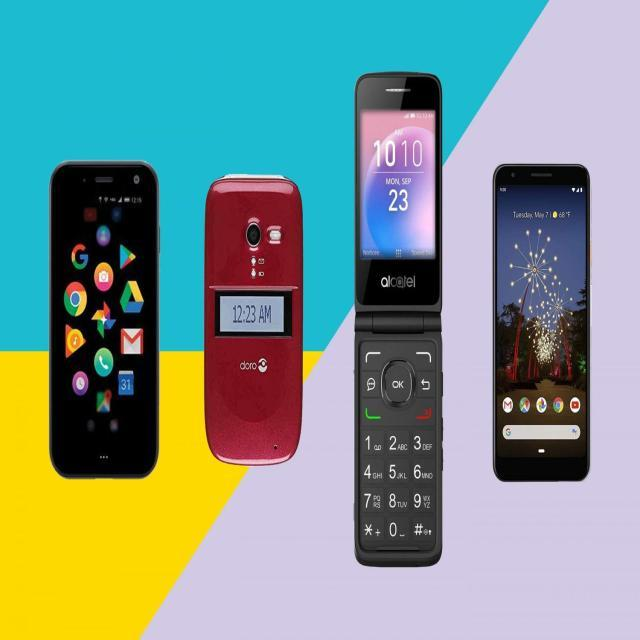phone: (352, 72, 445, 570), (47, 161, 161, 481), (492, 164, 591, 485), (201, 173, 306, 469)
